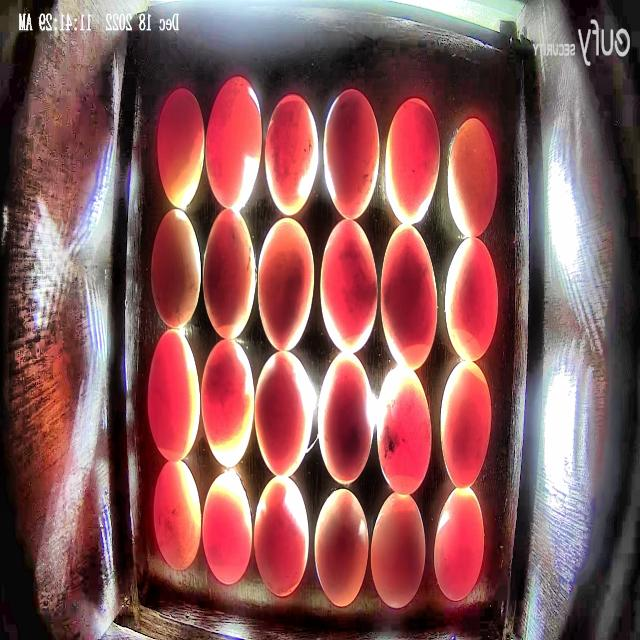FE: (380, 224, 438, 370), (319, 218, 378, 354), (204, 76, 263, 209), (322, 87, 380, 220), (254, 350, 314, 478), (258, 217, 314, 354), (202, 208, 258, 340), (317, 352, 373, 484), (384, 97, 440, 226), (148, 327, 201, 463), (378, 365, 432, 496), (200, 340, 254, 469), (253, 474, 310, 596), (439, 361, 493, 489), (264, 92, 319, 216), (444, 236, 498, 362), (314, 487, 370, 608), (371, 492, 426, 610), (150, 205, 201, 328), (433, 484, 485, 602), (448, 116, 498, 238), (157, 88, 206, 208), (202, 470, 253, 585), (153, 458, 202, 571)
